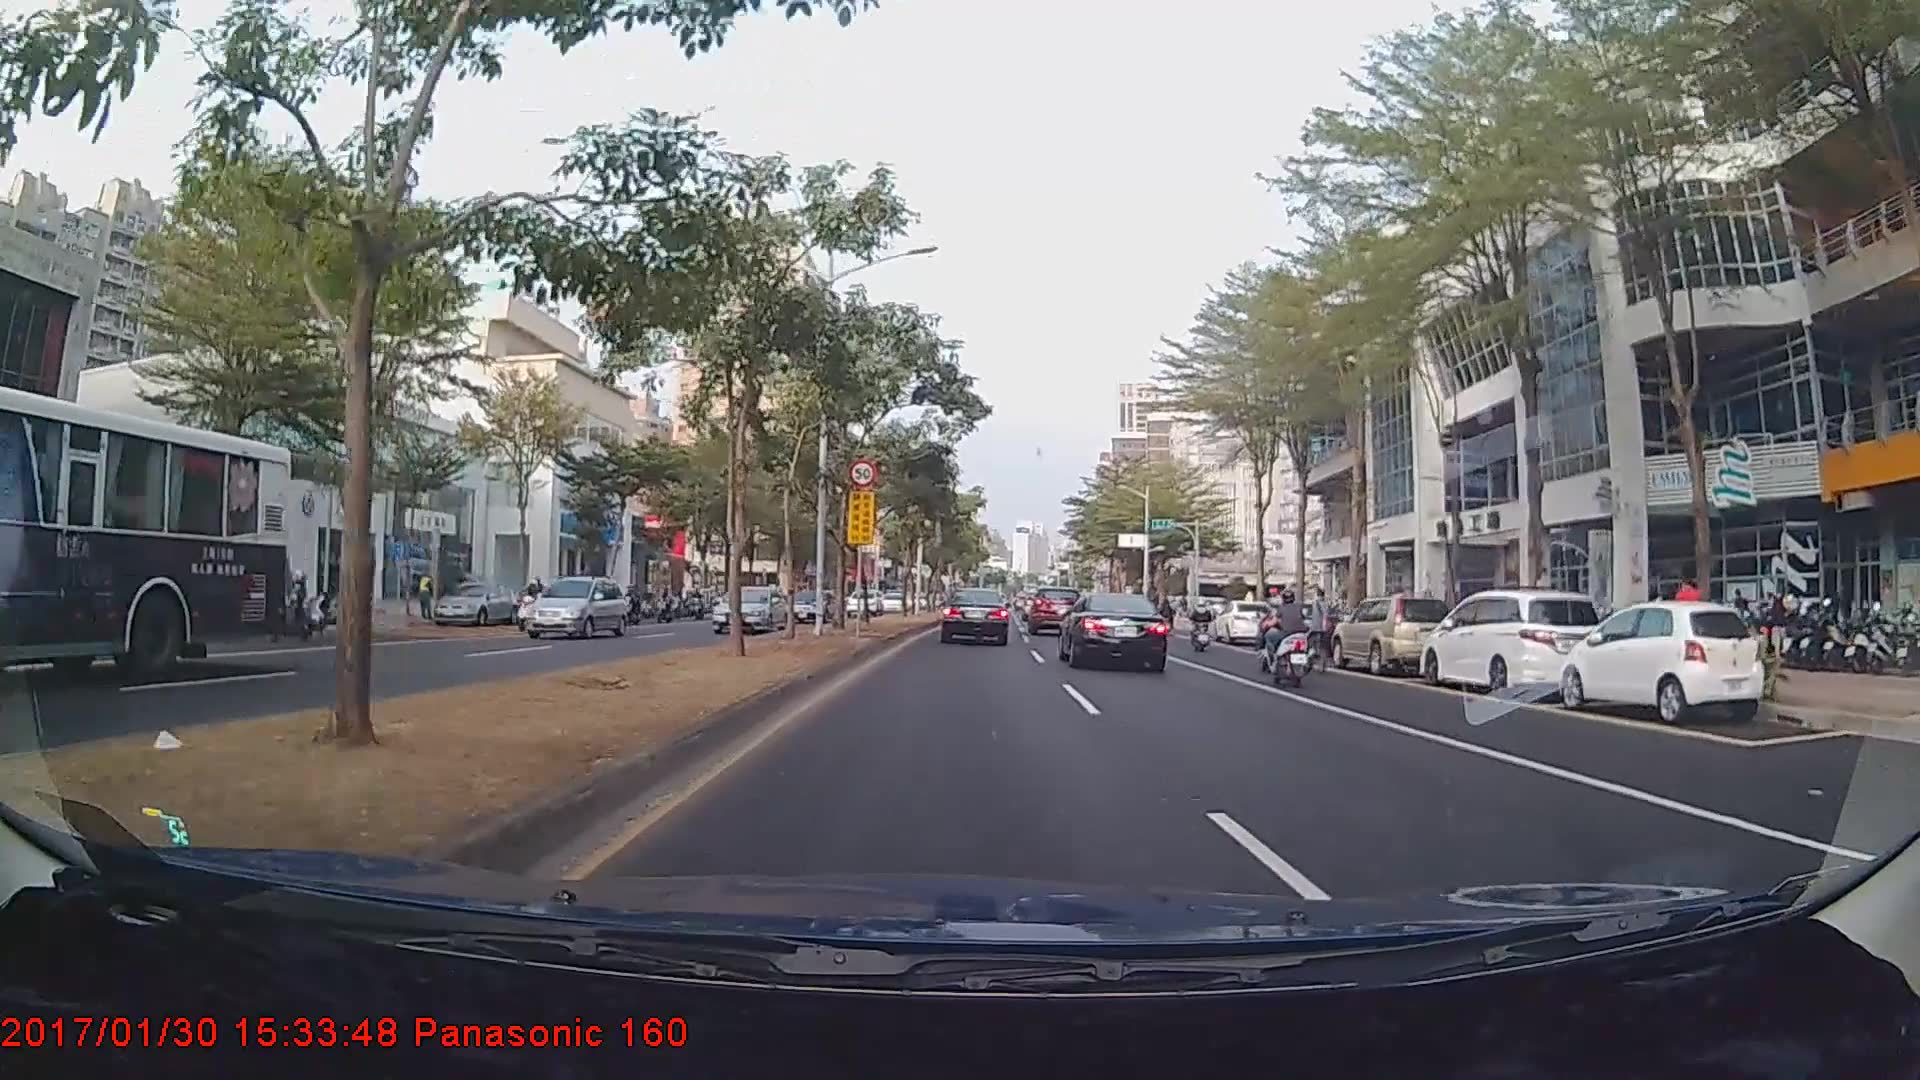rider: (1255, 582, 1327, 683), (1185, 592, 1217, 648)
vehicle: (0, 380, 287, 685), (1559, 597, 1768, 718), (1417, 588, 1605, 695), (1331, 592, 1457, 671), (1059, 588, 1170, 673), (518, 574, 629, 639), (939, 586, 1011, 646), (710, 581, 787, 633), (431, 582, 517, 624), (1026, 585, 1086, 636), (1216, 595, 1276, 644), (787, 586, 838, 621), (845, 588, 882, 613)
